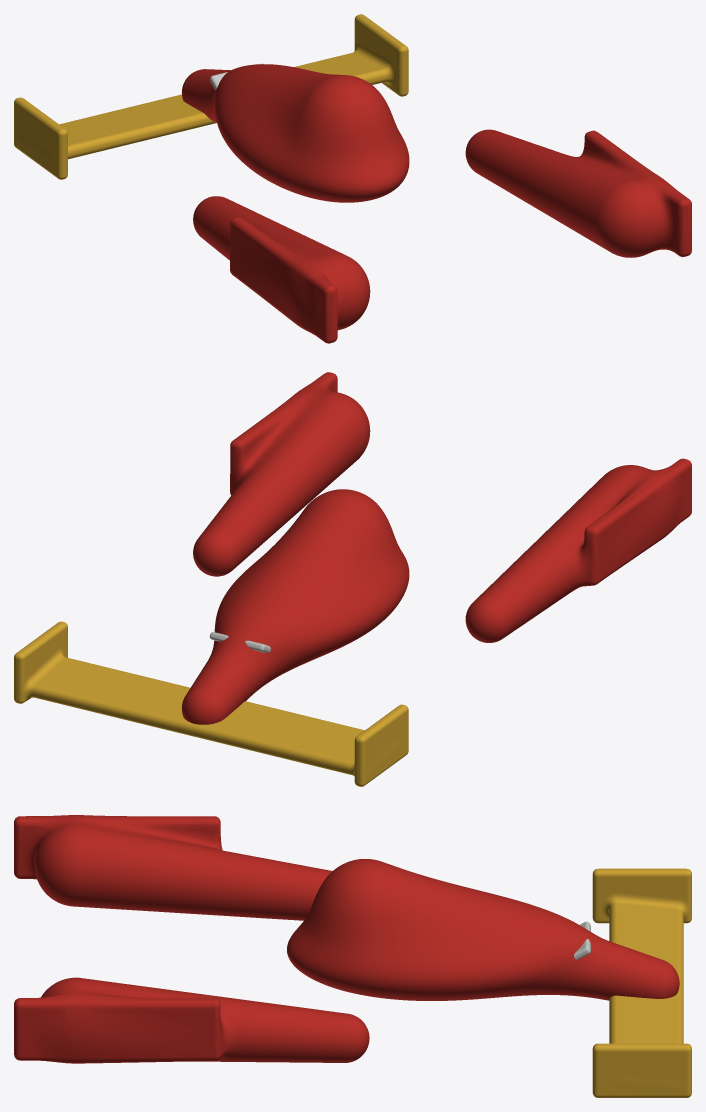
Rendered from bolt.glb.
3 renders of one model, top to bottom at view 1: azimuth 30°, elevation 25°; view 2: azimuth 150°, elevation 25°; view 3: azimuth 270°, elevation 25°, orthographic. The views are drawn at different scales.
Parts seen in each view (by area): view 1: SidePods, Nose, FrontWing; view 2: SidePods, Nose, FrontWing; view 3: SidePods, Nose, FrontWing.
Part boxes in pixels (<box>): SidePods: <box>193,129,691,343</box>; Nose: <box>182,64,409,202</box>; FrontWing: <box>14,14,408,179</box>; SidePods: <box>193,372,691,642</box>; Nose: <box>181,489,409,724</box>; FrontWing: <box>14,621,408,786</box>; SidePods: <box>14,815,369,1063</box>; Nose: <box>287,859,679,1000</box>; FrontWing: <box>592,868,691,1097</box>.
Bounding box in the file's own units: 1.11 × 0.3901 × 1.64.
